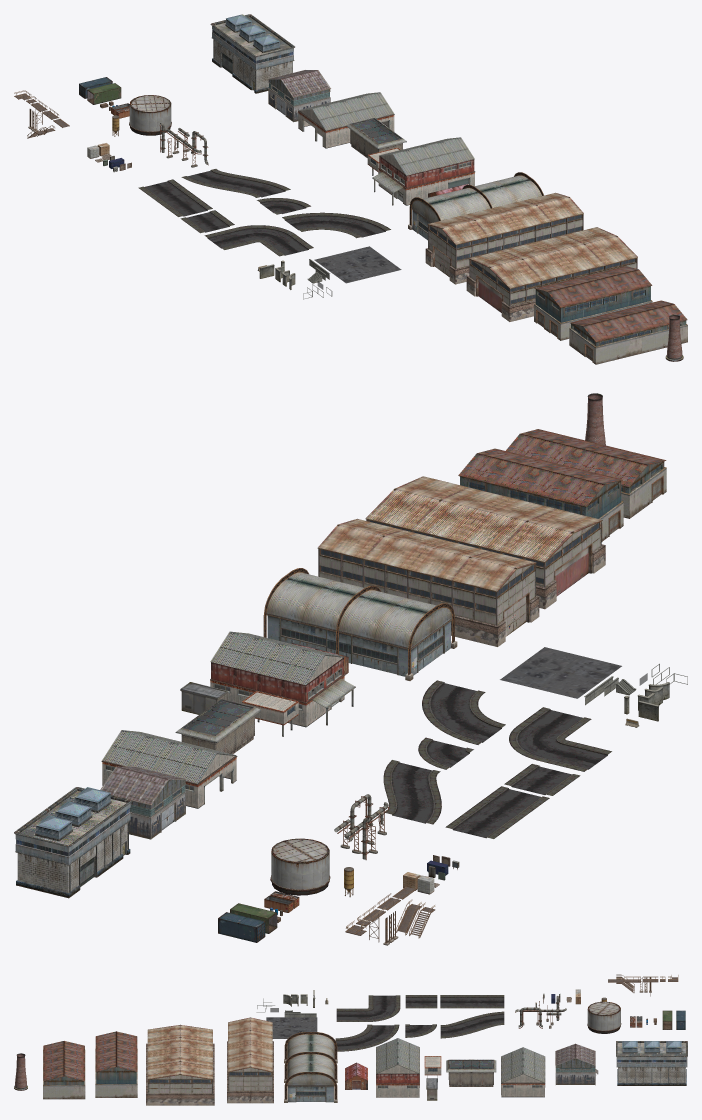
File: Industrial_exterior_v2.glb
3 renders of one model, top to bottom at view 1: azimuth 30°, elevation 25°; view 2: azimuth 150°, elevation 25°; view 3: azimuth 270°, elevation 25°, orthographic. The views are drawn at different scales.
Visible parts, largest first — view 1: Building_10, Building_9, Building_11, Building_12, Building_6, Building_1, Building_8, Building_3, Building_2, Road_turn_3, Alphalt_Floor, Road_turn_2 (+8 smaller); view 2: Building_9, Building_10, Building_8, Building_1, Building_6, Building_11, Building_12, Building_3, Building_2, Road_turn_3, Alphalt_Floor, Road_turn_2 (+10 smaller); view 3: Building_10, Building_9, Building_8, Building_1, Building_11, Building_6, Building_12, Building_3, Building_2, Building_4, Road_turn_3, Road_turn_2 (+11 smaller).
Boxes of the visible parts, x1,y1,x2,y2 form: Building_10: (466,227,637,321); Building_9: (425,192,583,284); Building_11: (534,266,652,340); Building_12: (569,300,687,364); Building_6: (372,137,475,205); Building_1: (210,14,294,93); Building_8: (408,172,543,240); Building_3: (298,92,394,148); Building_2: (268,70,330,122); Road_turn_3: (204,225,313,256); Alphalt_Floor: (314,246,401,283); Road_turn_2: (282,212,390,238); Building_9: (317,518,539,646); Building_10: (365,476,605,609); Building_8: (263,568,457,680); Building_1: (14,787,132,898); Building_6: (210,631,355,727); Building_11: (458,448,623,541); Building_12: (506,429,666,518); Building_3: (101,730,237,808); Building_2: (100,766,186,839); Road_turn_3: (509,707,611,771); Alphalt_Floor: (500,647,621,698); Road_turn_2: (422,680,505,744); Building_10: (146,1024,214,1105); Building_9: (227,1017,273,1103); Building_8: (284,1032,337,1102); Building_1: (616,1041,687,1085); Building_11: (95,1031,137,1097); Building_6: (376,1038,419,1097); Building_12: (43,1041,85,1099); Building_3: (501,1047,545,1097); Building_2: (555,1043,598,1085); Building_4: (446,1059,496,1086); Road_turn_3: (336,995,400,1021); Road_turn_2: (335,1024,399,1051).
Size of the model in its own units: 87.75 by 13.09 by 211.
Materials: 40 (40 with a texture image).
